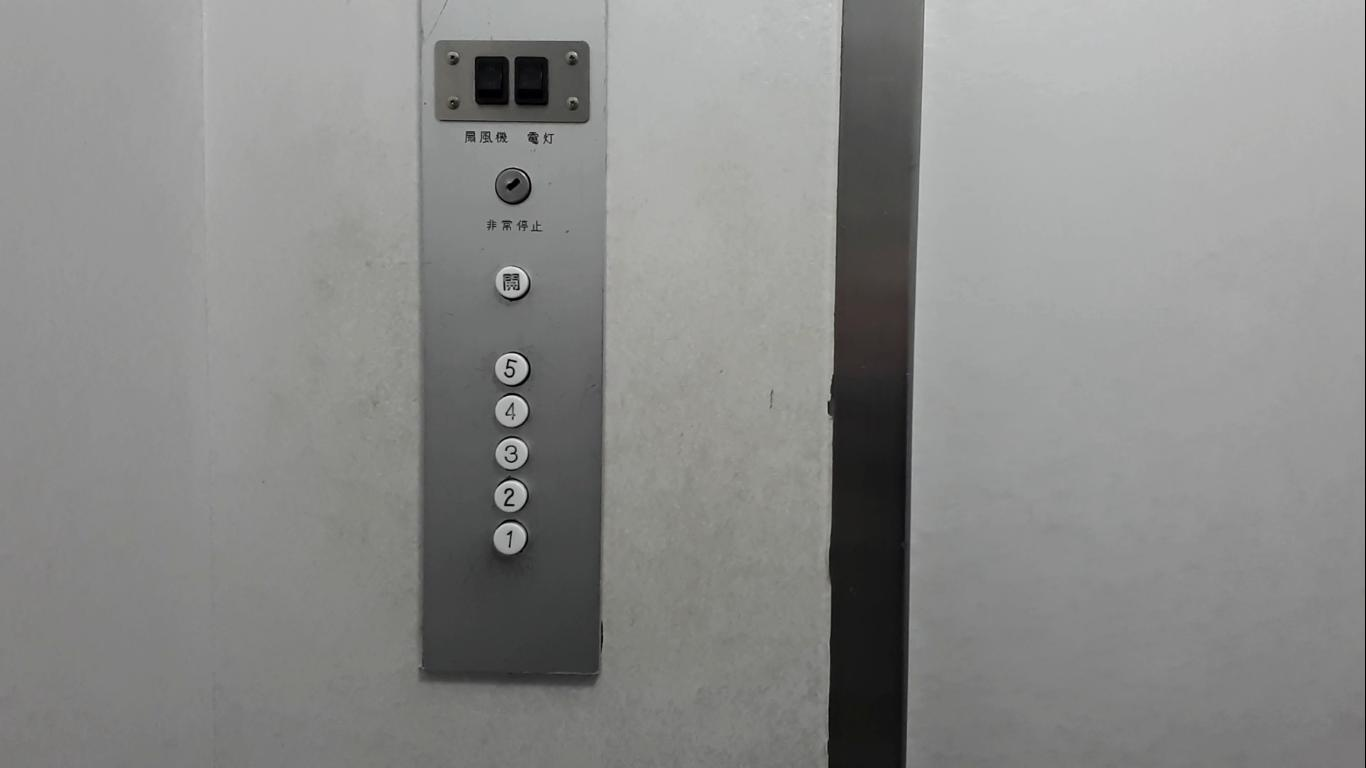1: (489, 517, 530, 559)
2: (488, 476, 529, 518)
3: (489, 433, 530, 475)
4: (490, 390, 531, 432)
5: (490, 348, 531, 390)
keyhole: (492, 165, 533, 207)
switch: (469, 50, 512, 112), (509, 50, 552, 112)
text: (490, 263, 531, 305)
